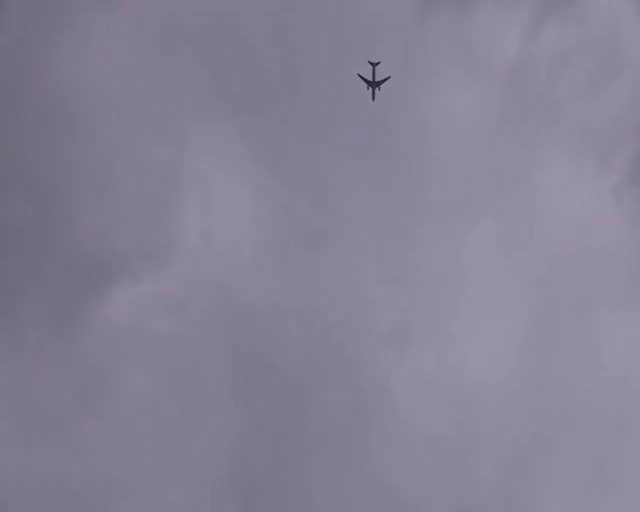AIRPLANE: (357, 60, 392, 101)
